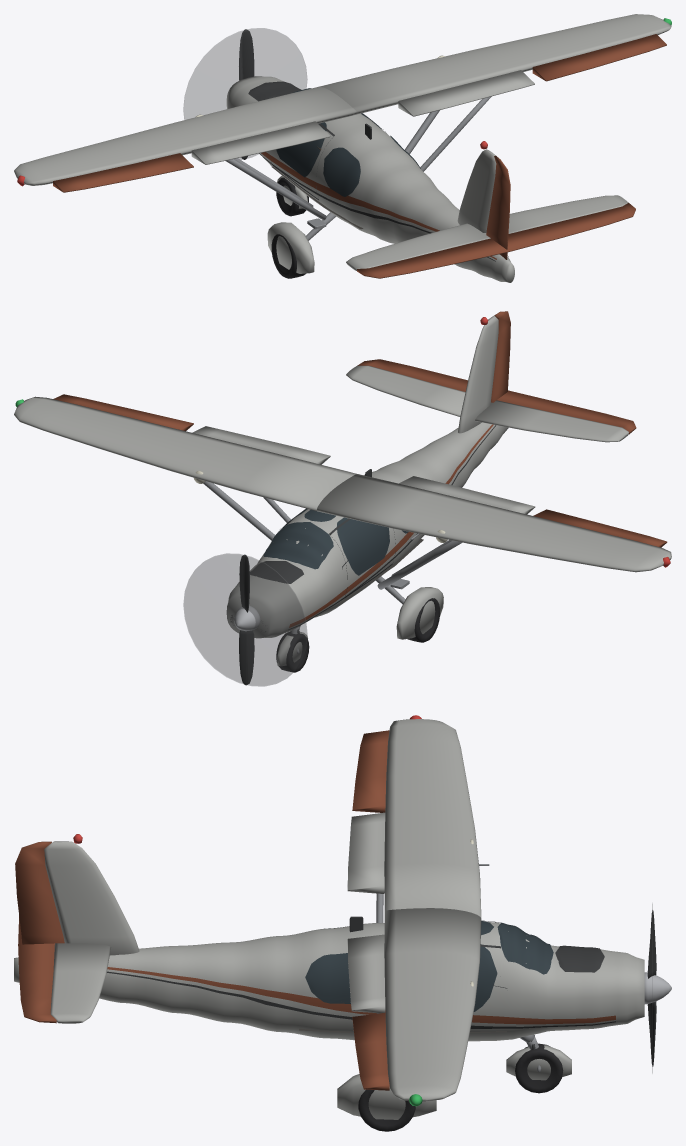
The model's file is light_aircraft_v1.glb.
3 renders of one model, top to bottom at view 1: azimuth 30°, elevation 25°; view 2: azimuth 150°, elevation 25°; view 3: azimuth 270°, elevation 25°, orthographic. The views are drawn at different scales.
Visible parts, largest first — view 1: Plane_Hull, Disc_Blur, Elevator, Aileron_R, Aileron_L, Rudder, Plane_Prop, Wheel_Main_L, Wheel_Nose; view 2: Plane_Hull, Disc_Blur, Elevator, Plane_Prop, Rudder, Aileron_R, Aileron_L, Wheel_Nose; view 3: Plane_Hull, Rudder, Elevator, Aileron_L, Aileron_R, Wheel_Nose, Wheel_Main_R, Plane_Prop.
Boxes of the visible parts, x1,y1,x2,y2 form: Plane_Hull: (14, 14, 671, 282); Disc_Blur: (183, 28, 307, 159); Elevator: (357, 203, 635, 278); Aileron_R: (532, 34, 666, 81); Aileron_L: (53, 153, 193, 192); Rudder: (486, 155, 510, 259); Plane_Prop: (239, 29, 254, 159); Wheel_Main_L: (271, 234, 305, 278); Wheel_Nose: (276, 177, 308, 216); Plane_Hull: (14, 315, 671, 666); Disc_Blur: (183, 553, 307, 686); Elevator: (357, 359, 636, 434); Plane_Prop: (239, 554, 254, 685); Rudder: (491, 311, 510, 402); Aileron_R: (53, 394, 193, 431); Aileron_L: (533, 509, 667, 547); Wheel_Nose: (276, 632, 309, 672); Plane_Hull: (14, 715, 671, 1119); Rudder: (15, 841, 64, 944); Elevator: (18, 915, 56, 1023); Aileron_L: (352, 730, 389, 812); Aileron_R: (352, 1012, 389, 1090); Wheel_Nose: (515, 1043, 563, 1093); Wheel_Main_R: (358, 1089, 415, 1131); Plane_Prop: (647, 910, 656, 1066).
Bounding box in the file's own units: 11.36 × 3.52 × 8.22.
